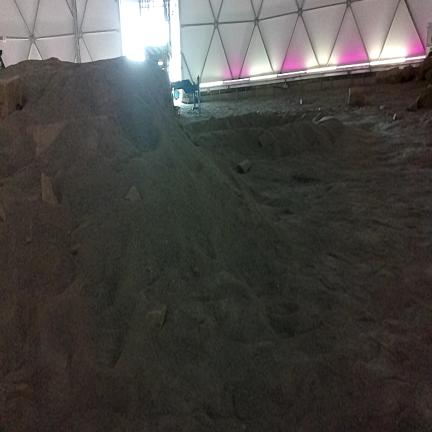Rock: (33, 122, 65, 156), (0, 76, 22, 116), (42, 173, 58, 205), (148, 306, 166, 332), (376, 67, 402, 83), (415, 85, 432, 109), (415, 58, 431, 80), (349, 88, 366, 106), (259, 131, 275, 147), (400, 65, 415, 82), (126, 186, 140, 200), (238, 159, 250, 173), (317, 116, 335, 123), (0, 205, 6, 221), (425, 69, 431, 82), (407, 103, 416, 111), (26, 236, 32, 243), (392, 113, 396, 121), (380, 105, 385, 109), (300, 98, 302, 105)
